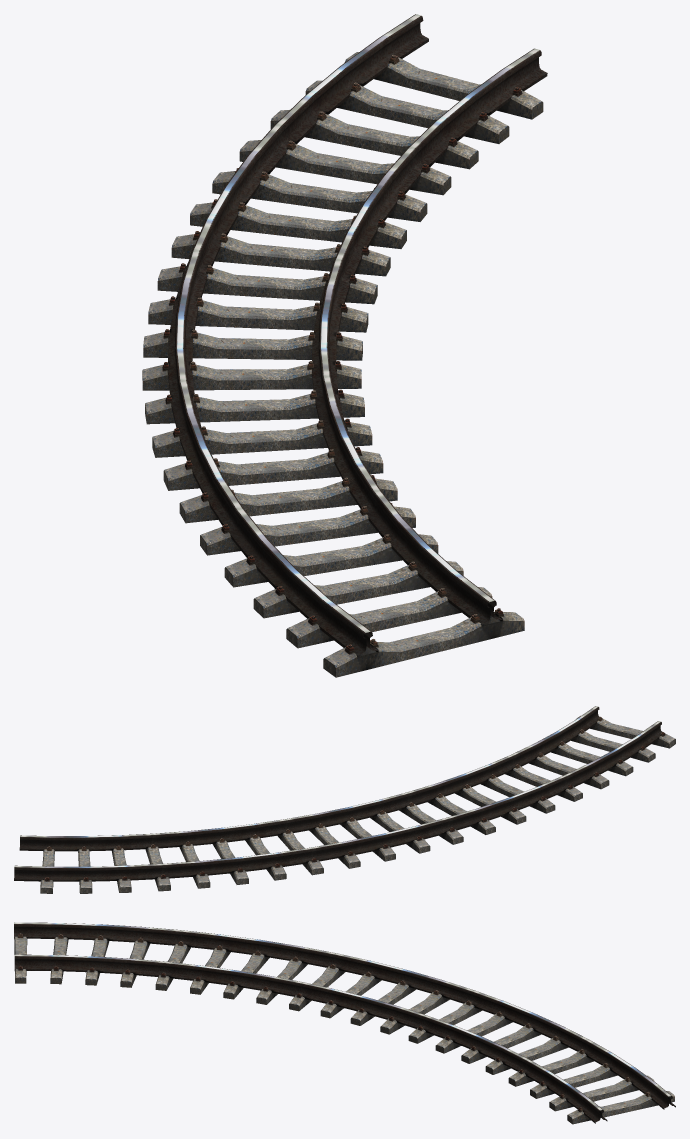
The model's file is Beton_rail_-65.FBX.
3 views of the same model, one above another, from view 1: azimuth 30°, elevation 25°; view 2: azimuth 150°, elevation 25°; view 3: azimuth 270°, elevation 25° (orthographic). The views are drawn at different scales.
Parts seen in each view (by area): view 1: Beton_rail_-65_LOD0; view 2: Beton_rail_-65_LOD0; view 3: Beton_rail_-65_LOD0.
Boxes of the visible parts, box(x1,y1,x2,y2) form: Beton_rail_-65_LOD0: box(142, 14, 547, 677); Beton_rail_-65_LOD0: box(14, 706, 675, 893); Beton_rail_-65_LOD0: box(14, 922, 675, 1124).
Size of what is drawn, in the model's own units: 10.12 by 14.41 by 0.4774.
